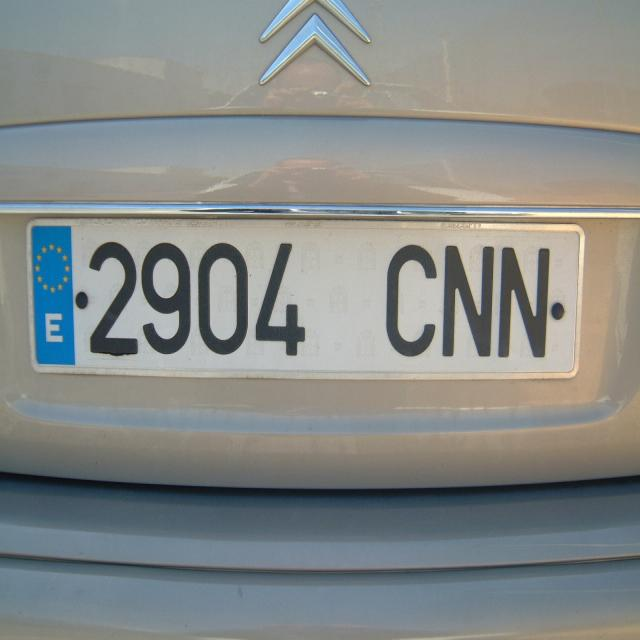license_plate-34Td: (28, 219, 584, 379)
